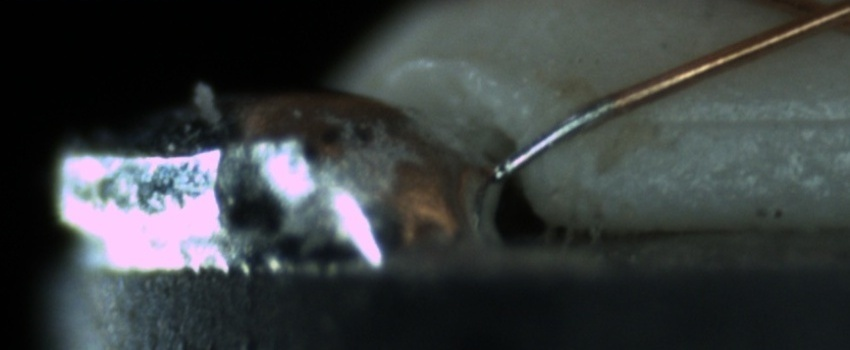CL: (766, 0, 849, 43)
DL: (645, 86, 849, 151)
TS: (492, 98, 617, 182)
